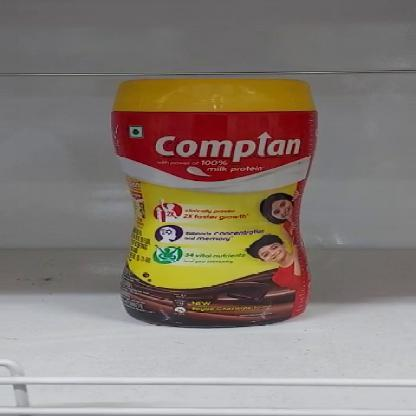Complan Royal Chocolate: (116, 77, 318, 331)
